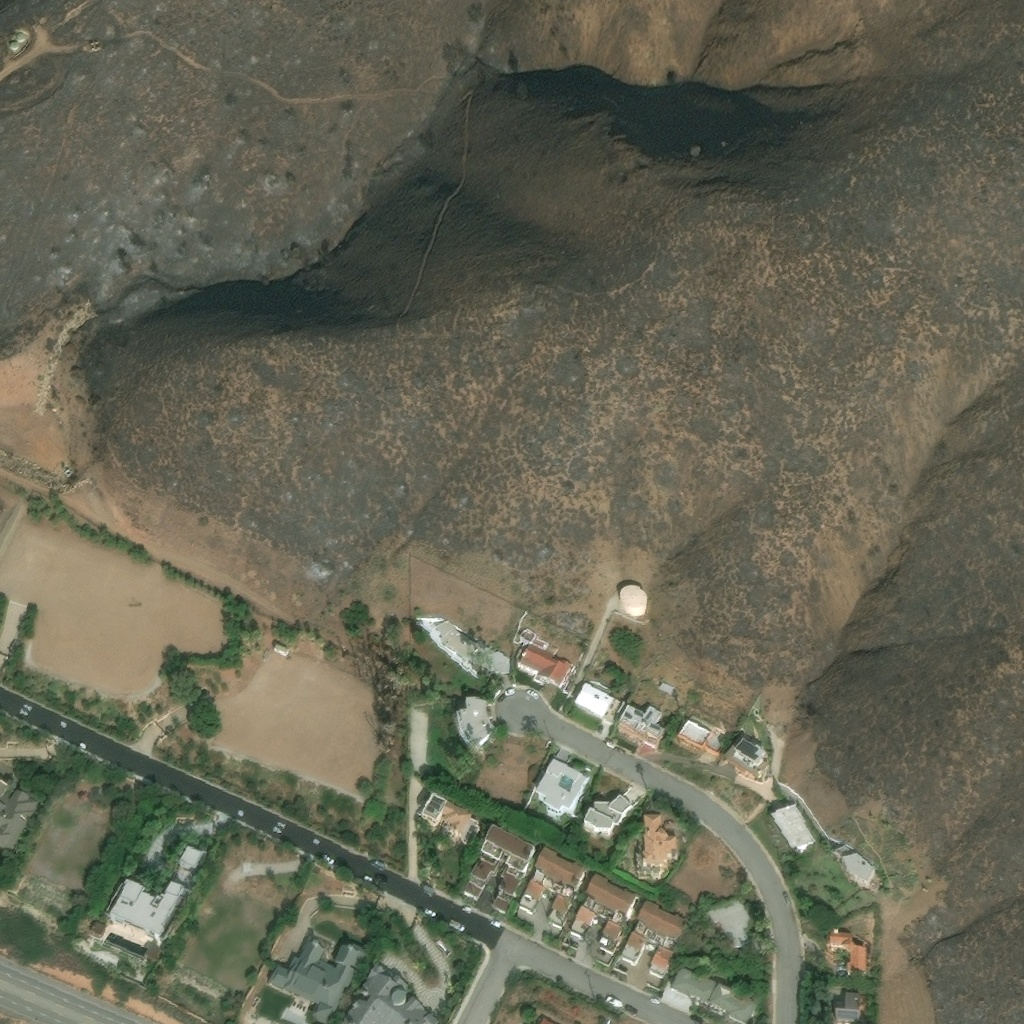0 no-damage: (268, 938, 363, 1023), (568, 872, 642, 966), (462, 824, 537, 915), (518, 846, 590, 930), (620, 898, 692, 979), (342, 964, 439, 1023), (105, 879, 190, 941), (670, 965, 757, 1023), (436, 618, 511, 677), (419, 792, 481, 850), (532, 757, 590, 818), (514, 626, 570, 688), (706, 895, 761, 952), (0, 778, 40, 854), (616, 703, 668, 752), (454, 698, 496, 755), (581, 792, 632, 838), (769, 801, 816, 850), (825, 927, 868, 979), (571, 682, 619, 724), (642, 813, 678, 868), (676, 717, 715, 754), (841, 851, 877, 885), (732, 737, 763, 769), (620, 583, 648, 615), (834, 989, 860, 1022), (177, 845, 206, 873), (141, 944, 159, 963), (90, 922, 106, 937), (15, 30, 26, 40), (8, 40, 18, 49)
